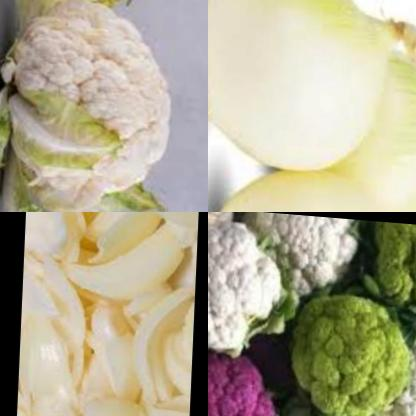cayliflower: (0, 0, 191, 212), (291, 271, 416, 416), (208, 212, 296, 356), (247, 212, 367, 307), (351, 214, 416, 315), (208, 339, 292, 416), (377, 310, 416, 416), (208, 212, 250, 272)
onion: (15, 212, 200, 416), (208, 0, 416, 175), (208, 152, 413, 212), (351, 33, 416, 212)
